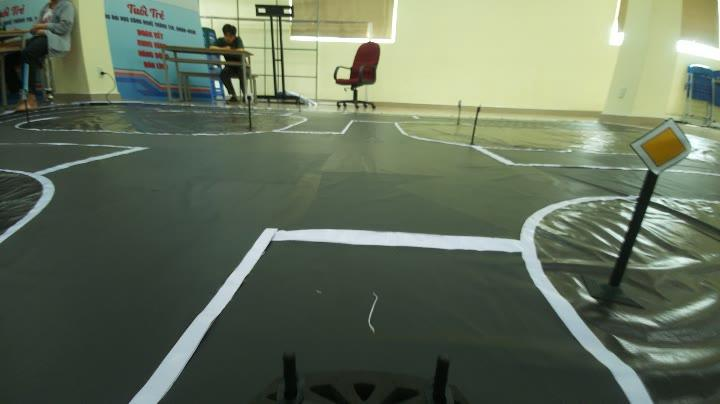priority: (624, 116, 694, 176)
